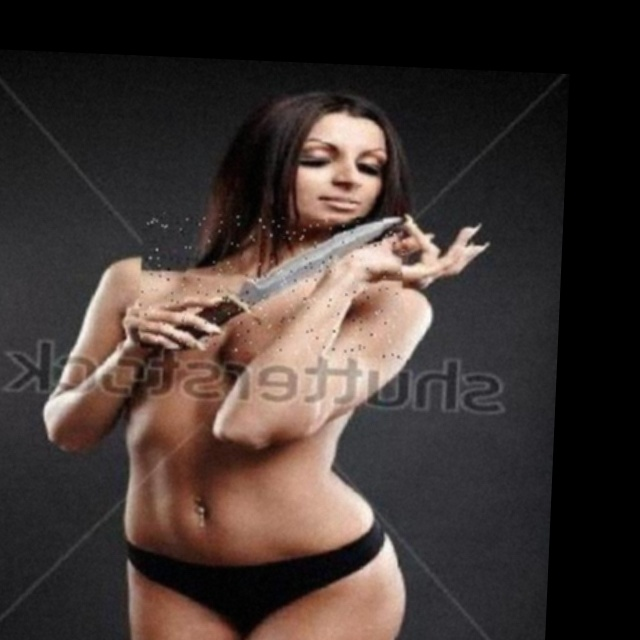Sharp-Object: (138, 211, 408, 359)
